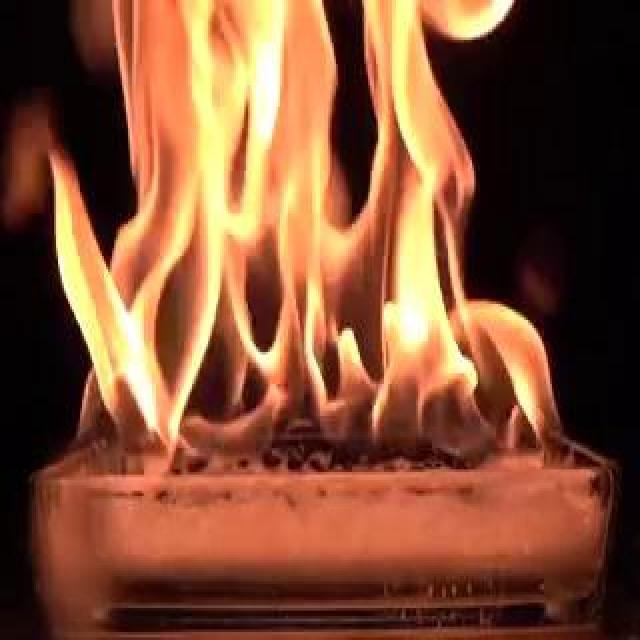fire: (40, 0, 575, 447)
